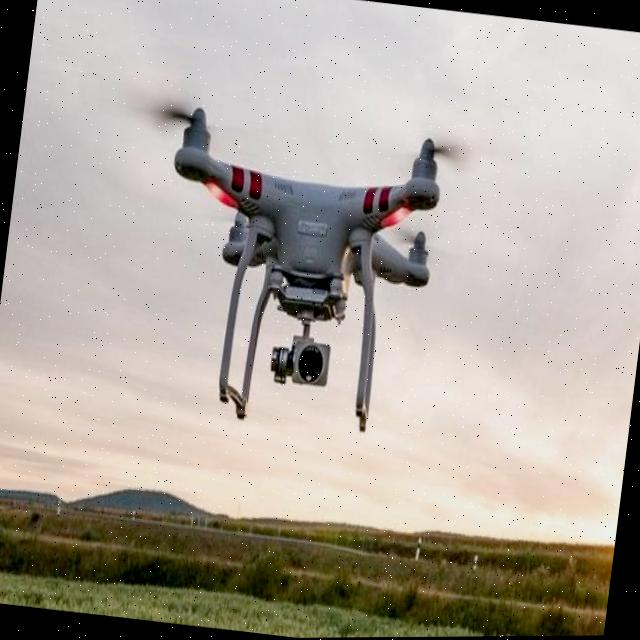drone: (113, 70, 490, 366)
